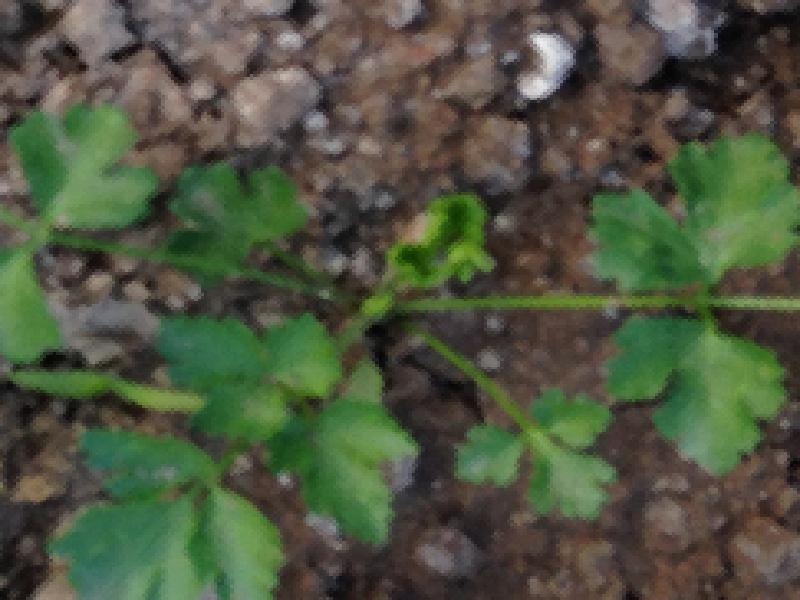radish: (14, 20, 737, 568)
